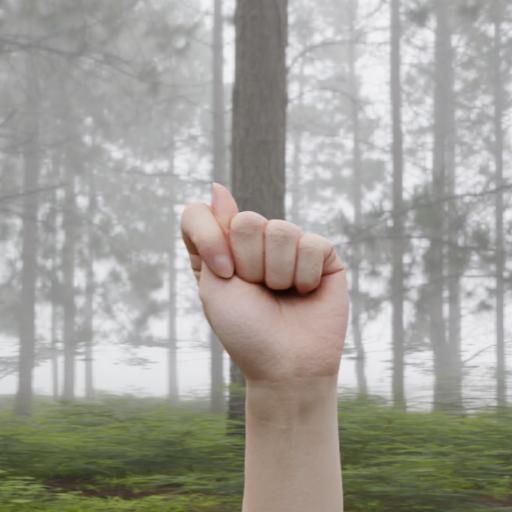T: (173, 177, 368, 512)
